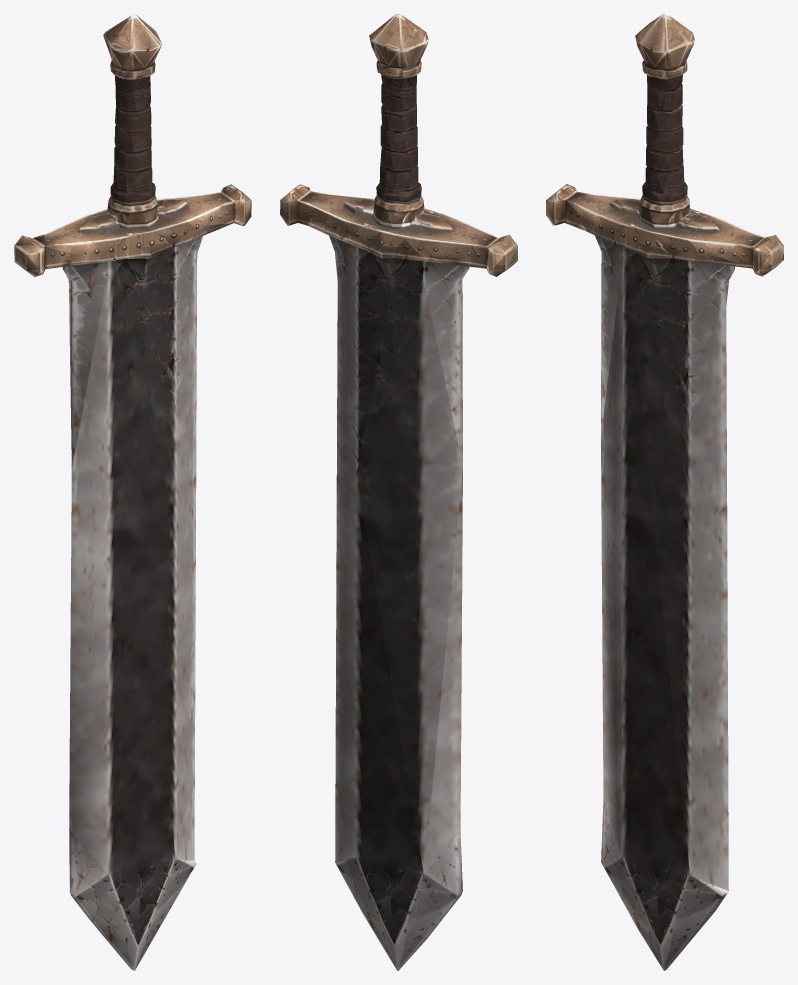
File: StoneBlade.fbx
The picture shows the model from 3 angles, left to right: view 1: azimuth 30°, elevation 25°; view 2: azimuth 150°, elevation 25°; view 3: azimuth 330°, elevation 25°; orthographic projection.
Visible parts, largest first — view 1: Mesh_0; view 2: Mesh_0; view 3: Mesh_0.
Part boxes in pixels (x1,y1,x2,y2): Mesh_0: (14, 14, 251, 970); Mesh_0: (280, 14, 517, 970); Mesh_0: (546, 14, 783, 970).
Bounding box in the file's own units: 46.75 × 190 × 13.39.
1 material, 1 textured.
